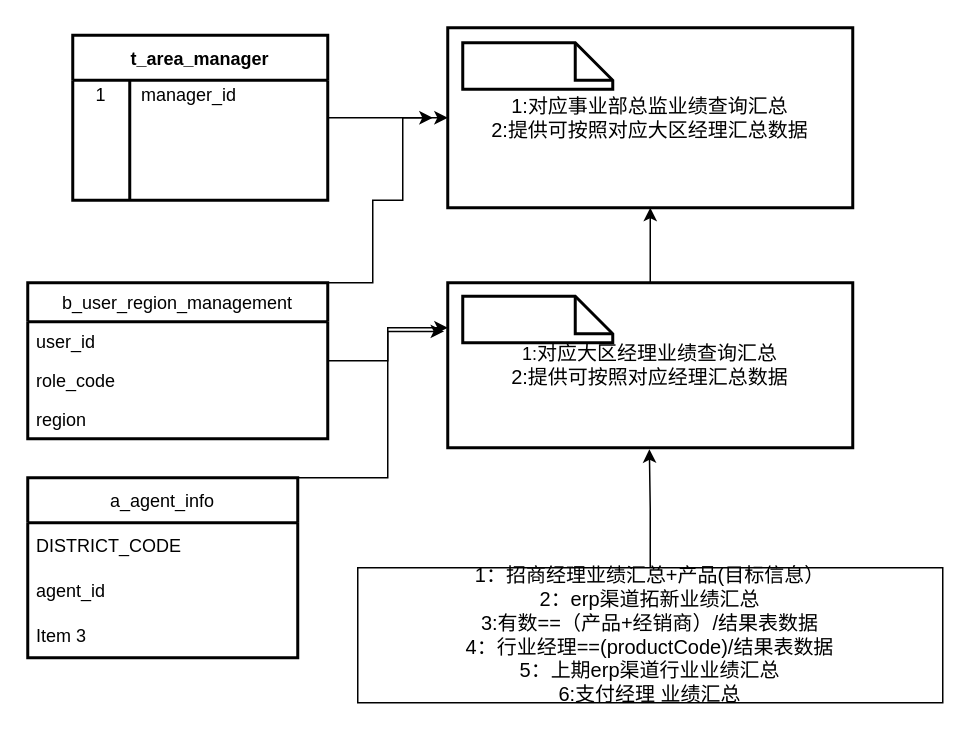
Image size: 969x732. Some labels were removed from this diagram. Here are the shapes that lost their labels. From the top down, the centre of each, then its label:
At (537,65): "事业部总监".
At (537,319): "大区经理".
